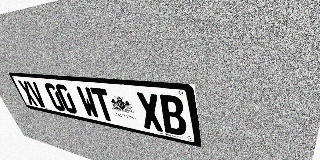0: (54, 84, 78, 114), (43, 83, 66, 112)
B: (158, 94, 188, 137)
T: (90, 87, 116, 122)
V: (26, 81, 48, 108)
W: (75, 86, 101, 119)
X: (135, 92, 165, 132), (17, 80, 39, 106)
